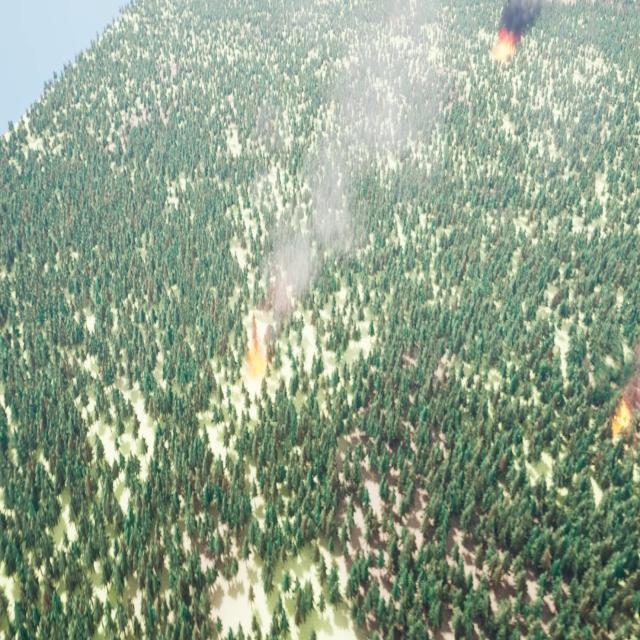fire: (489, 31, 520, 58), (614, 393, 631, 437), (245, 346, 266, 372)
smoke: (254, 0, 447, 334), (499, 0, 542, 31)
